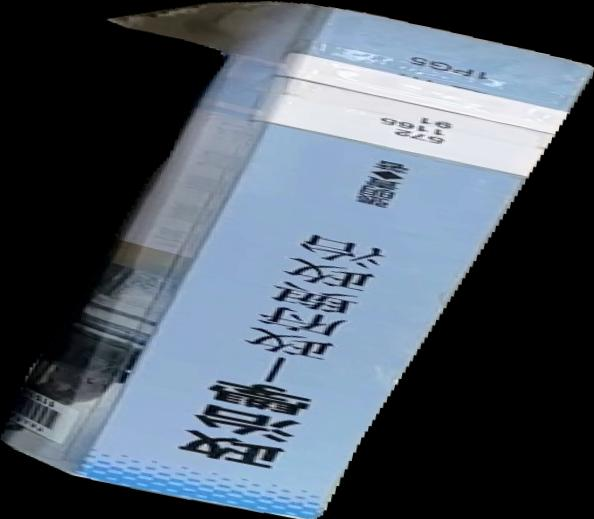reverse: (1, 1, 594, 519)
